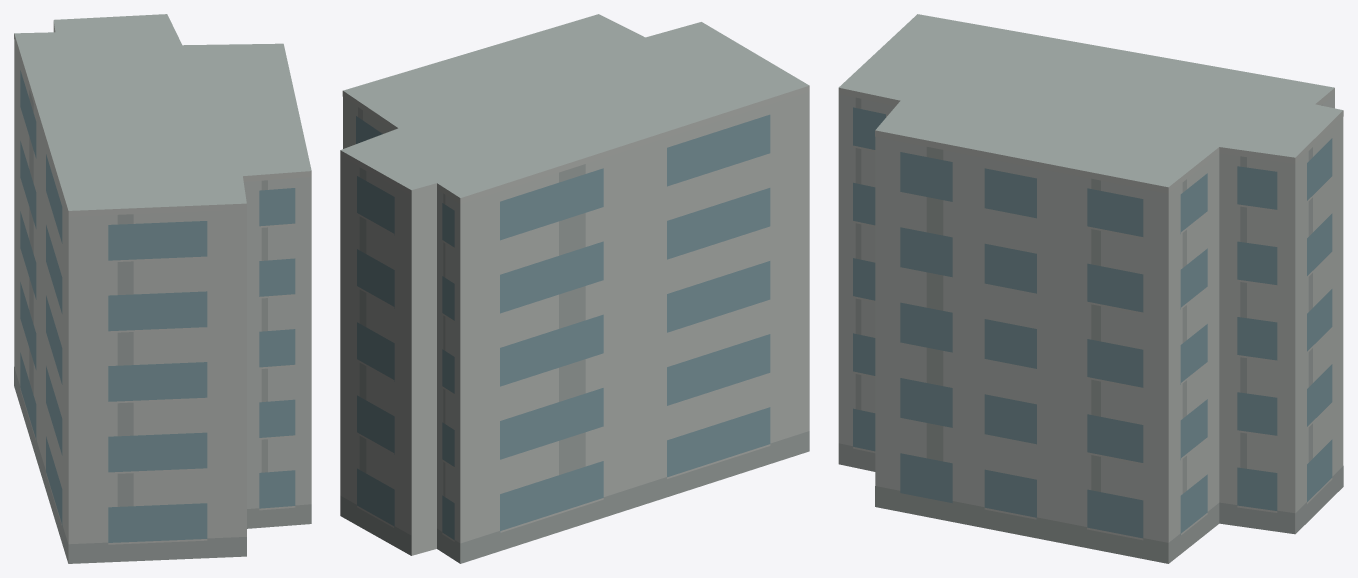
The model's file is survey-upis-32488670.glb.
3 renders of one model, left to right at view 1: azimuth 30°, elevation 25°; view 2: azimuth 150°, elevation 25°; view 3: azimuth 270°, elevation 25°, orthographic. The views are drawn at different scales.
Visible parts, largest first — view 1: survey-upis-32488670.tmp; view 2: survey-upis-32488670.tmp; view 3: survey-upis-32488670.tmp.
Boxes of the visible parts, x1=… form: survey-upis-32488670.tmp: x1=14, y1=14, x2=311, y2=563; survey-upis-32488670.tmp: x1=340, y1=14, x2=809, y2=563; survey-upis-32488670.tmp: x1=838, y1=14, x2=1343, y2=563.
Bounding box in the file's own units: 14.32 × 14.5 × 17.63.
